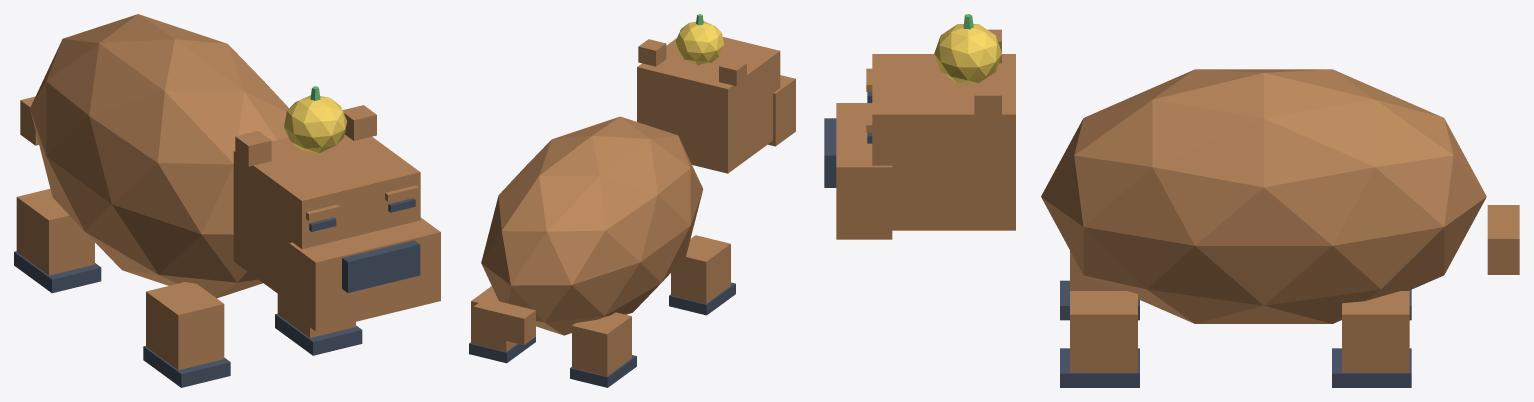
The model's file is capybara.glb.
The picture shows the model from 3 angles, left to right: view 1: azimuth 30°, elevation 25°; view 2: azimuth 150°, elevation 25°; view 3: azimuth 270°, elevation 25°; orthographic projection. The views are drawn at different scales.
Parts seen in each view (by area): view 1: body.001, head.001, yuzu; view 2: body.001, head.001, yuzu; view 3: body.001, head.001, yuzu.
Part boxes in pixels (left/top/right/bottom): body.001: left=14, top=14, right=362, bottom=387; head.001: left=233, top=105, right=440, bottom=331; yuzu: left=284, top=86, right=347, bottom=153; body.001: left=469, top=116, right=735, bottom=387; head.001: left=637, top=37, right=795, bottom=173; yuzu: left=676, top=14, right=723, bottom=65; body.001: left=1041, top=69, right=1519, bottom=387; head.001: left=824, top=29, right=1015, bottom=239; yuzu: left=934, top=14, right=1001, bottom=83.
Bounding box in the file's own units: 0.582 × 0.9 × 1.74.
